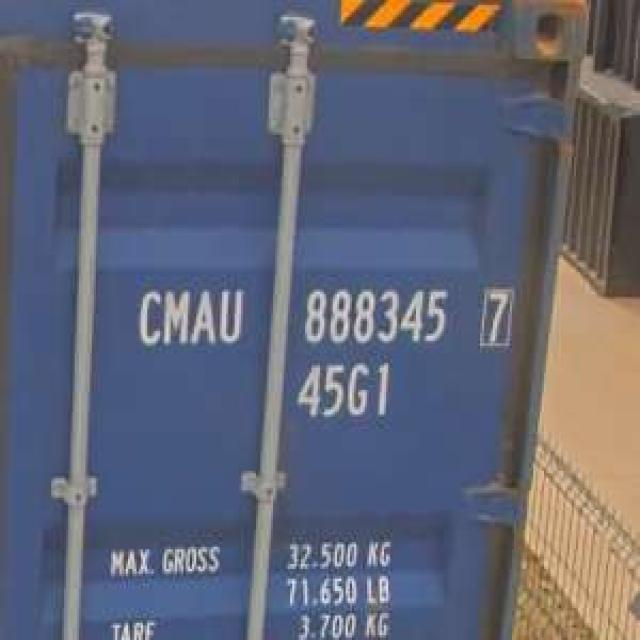dv: (470, 279, 517, 353)
owner: (131, 277, 247, 354)
serial: (295, 280, 456, 347)
size: (292, 359, 394, 425)
